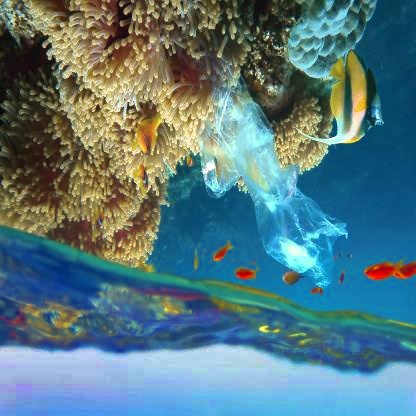pbag: (188, 70, 348, 296)
